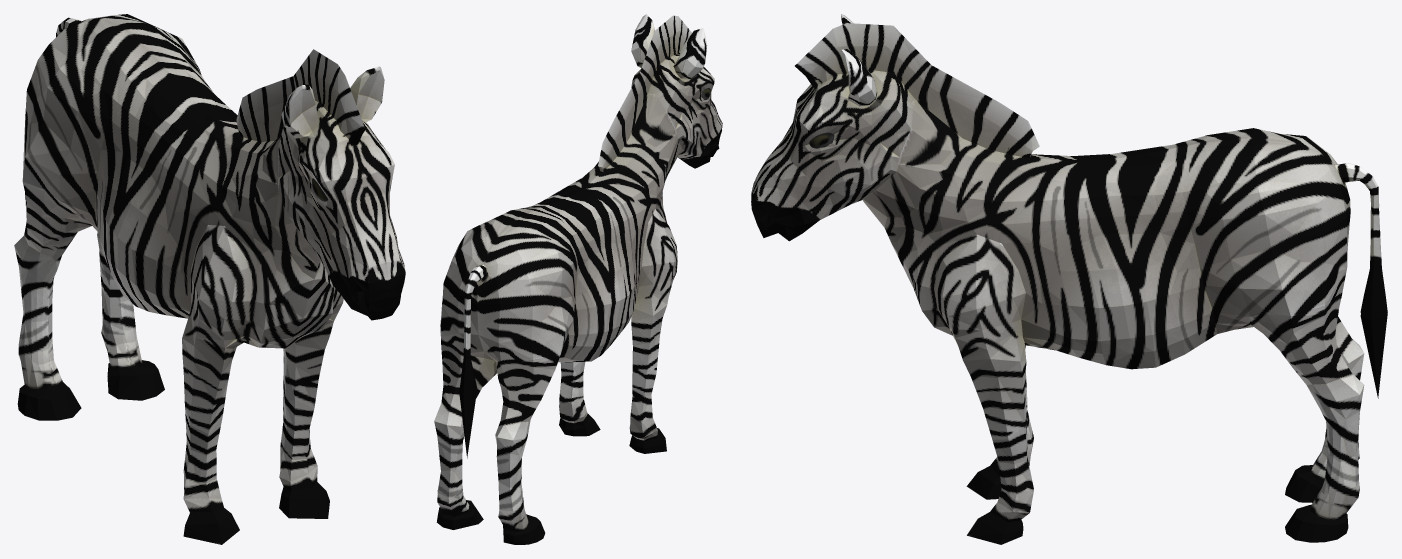
The model's file is Zebra.fbx.
The picture shows the model from 3 angles, left to right: view 1: azimuth 30°, elevation 25°; view 2: azimuth 150°, elevation 25°; view 3: azimuth 270°, elevation 25°; orthographic projection. The views are drawn at different scales.
Parts seen in each view (by area): view 1: Zebra; view 2: Zebra; view 3: Zebra.
Part boxes in pixels (bbox=[...]): Zebra: bbox=[14, 14, 405, 544]; Zebra: bbox=[434, 14, 722, 544]; Zebra: bbox=[751, 14, 1387, 544].
Bounding box in the file's own units: 49.67 × 146 × 173.
